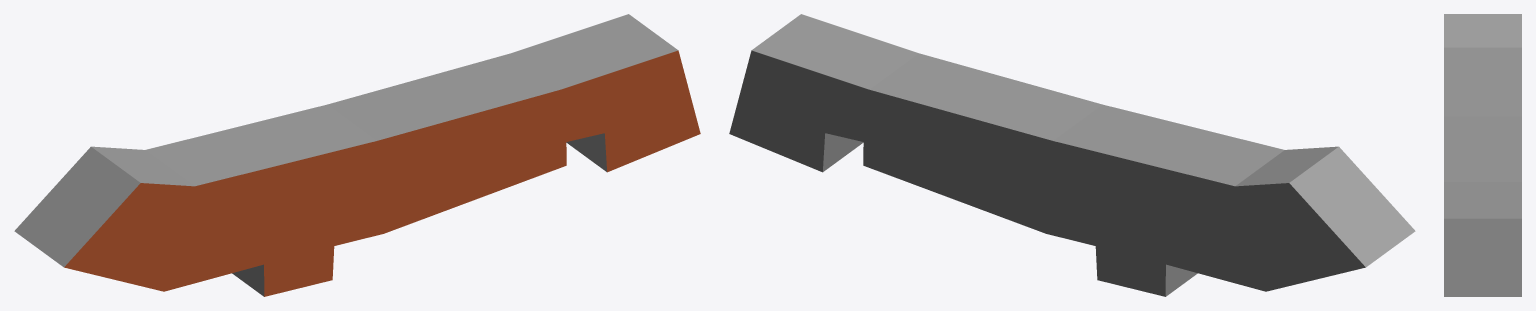
The model's file is construction_2791_assumed_A_Casa_h6m.obj.
The picture shows the model from 3 angles, left to right: view 1: azimuth 30°, elevation 25°; view 2: azimuth 150°, elevation 25°; view 3: azimuth 270°, elevation 25°; orthographic projection. The views are drawn at different scales.
Parts seen in each view (by area): view 1: construction_2791_assumed_A_Casa; view 2: construction_2791_assumed_A_Casa; view 3: construction_2791_assumed_A_Casa.
Part boxes in pixels (x1=…): construction_2791_assumed_A_Casa: x1=14, y1=14, x2=700, y2=296; construction_2791_assumed_A_Casa: x1=729, y1=14, x2=1415, y2=296; construction_2791_assumed_A_Casa: x1=1444, y1=14, x2=1521, y2=296.
Size of the model in its own units: 44.36 by 9.69 by 6.
